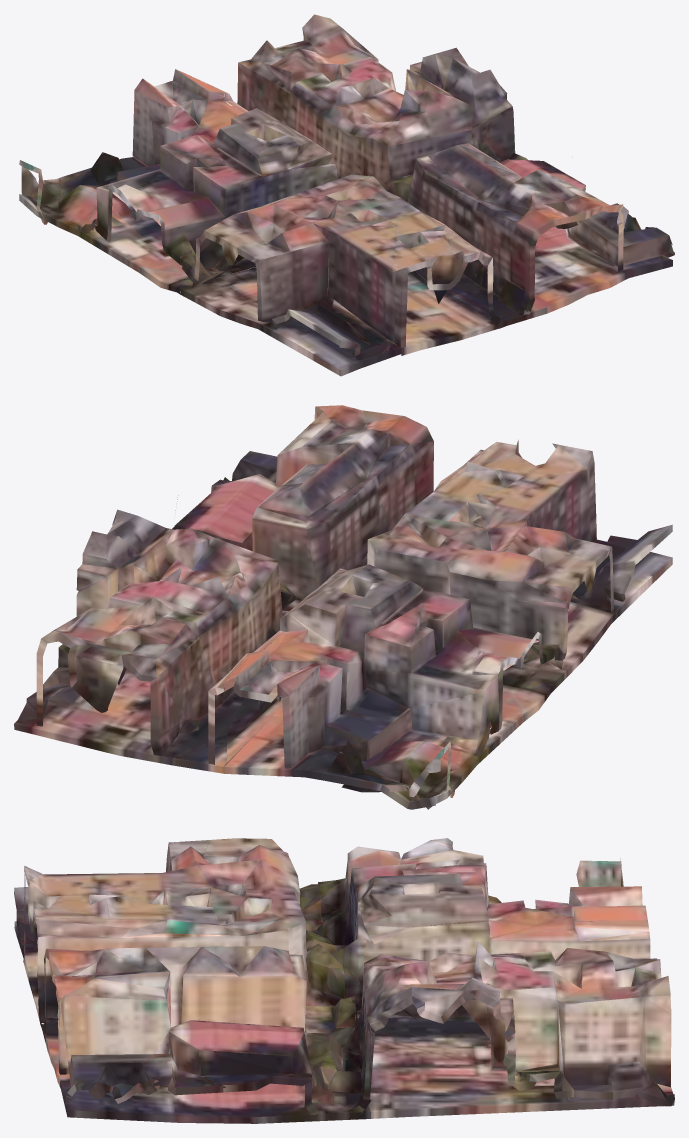
The picture shows the model from 3 angles, top to bottom: view 1: azimuth 30°, elevation 25°; view 2: azimuth 150°, elevation 25°; view 3: azimuth 270°, elevation 25°; orthographic projection. The views are drawn at different scales.
Parts seen in each view (by area): view 1: Mesh_0; view 2: Mesh_0; view 3: Mesh_0.
Part boxes in pixels (left/top/right/bottom): Mesh_0: left=19, top=14, right=674, bottom=376; Mesh_0: left=14, top=405, right=672, bottom=809; Mesh_0: left=14, top=838, right=674, bottom=1123.
Size of the model in its own units: 136 by 37.05 by 165.
1 material, 1 textured.
